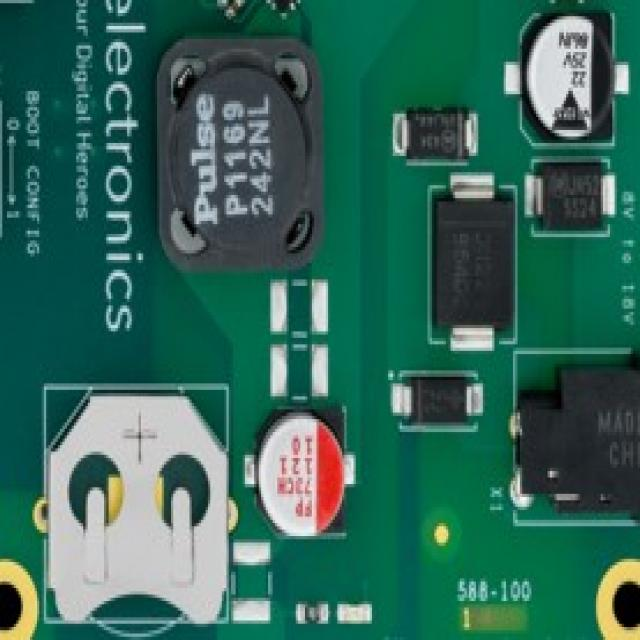battery: (44, 387, 232, 617)
capacitor 1V5: (514, 10, 616, 140), (251, 408, 347, 530)
diode -D1-: (425, 180, 515, 343), (531, 165, 606, 238), (391, 371, 478, 429), (398, 103, 475, 163)
inductor F1: (159, 22, 322, 259)
resistor IR1: (297, 600, 325, 628)
